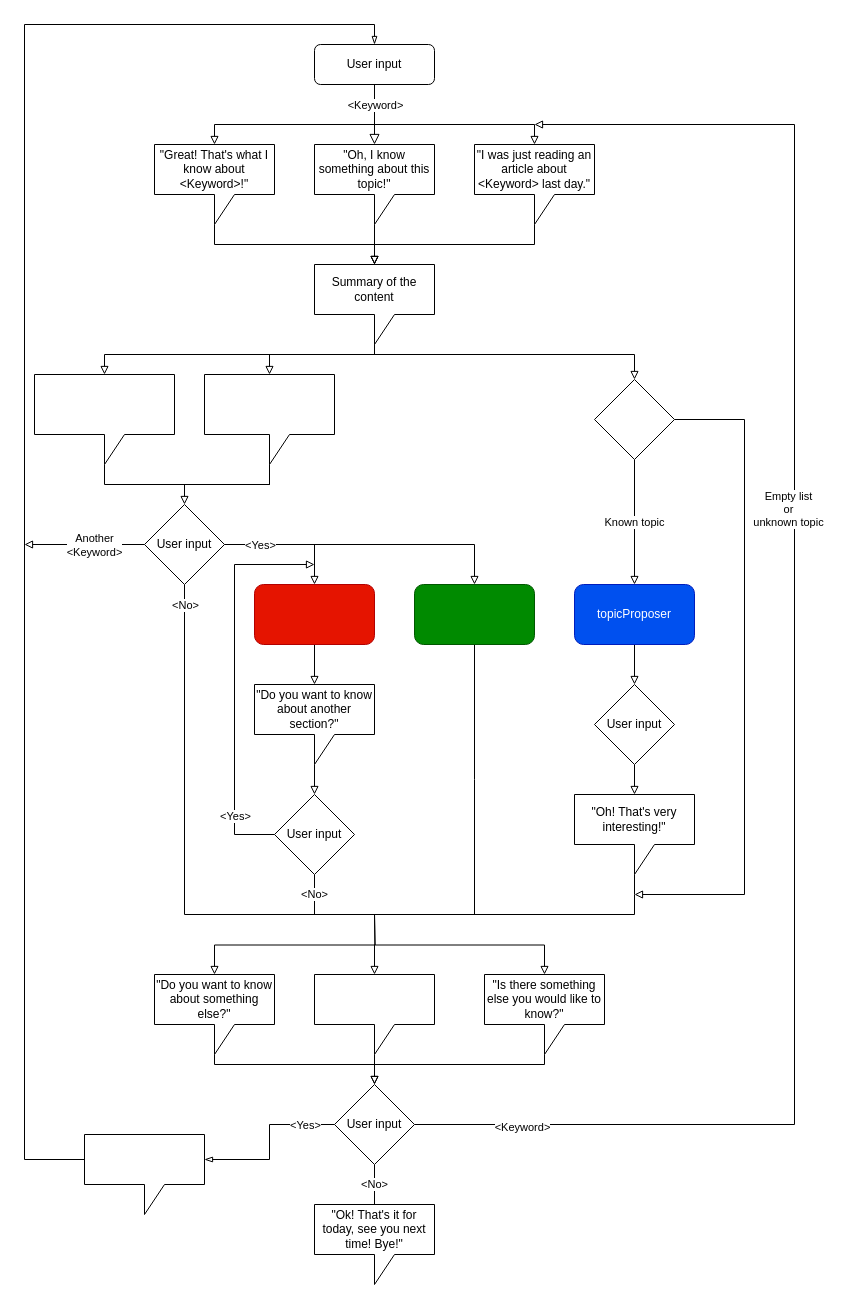
The diagram is 841 pixels wide and 1302 high, and some of its shapes have lost their labels. Each missing label, with the centre of its shape:
"Are you interested in something else?": point 374,1014
"Do you want more information about this topic?": point 104,419
"Is there something else you would like to know about this topic?": point 269,419
"What do you want to know?": point 144,1174
presentSection: point 314,614
presentSuggestion: point 474,614
Topic list: point 634,419
